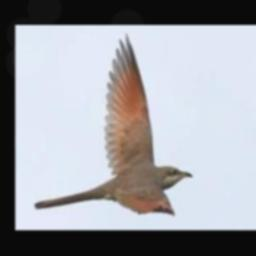Cuckoo: (35, 34, 193, 214)
